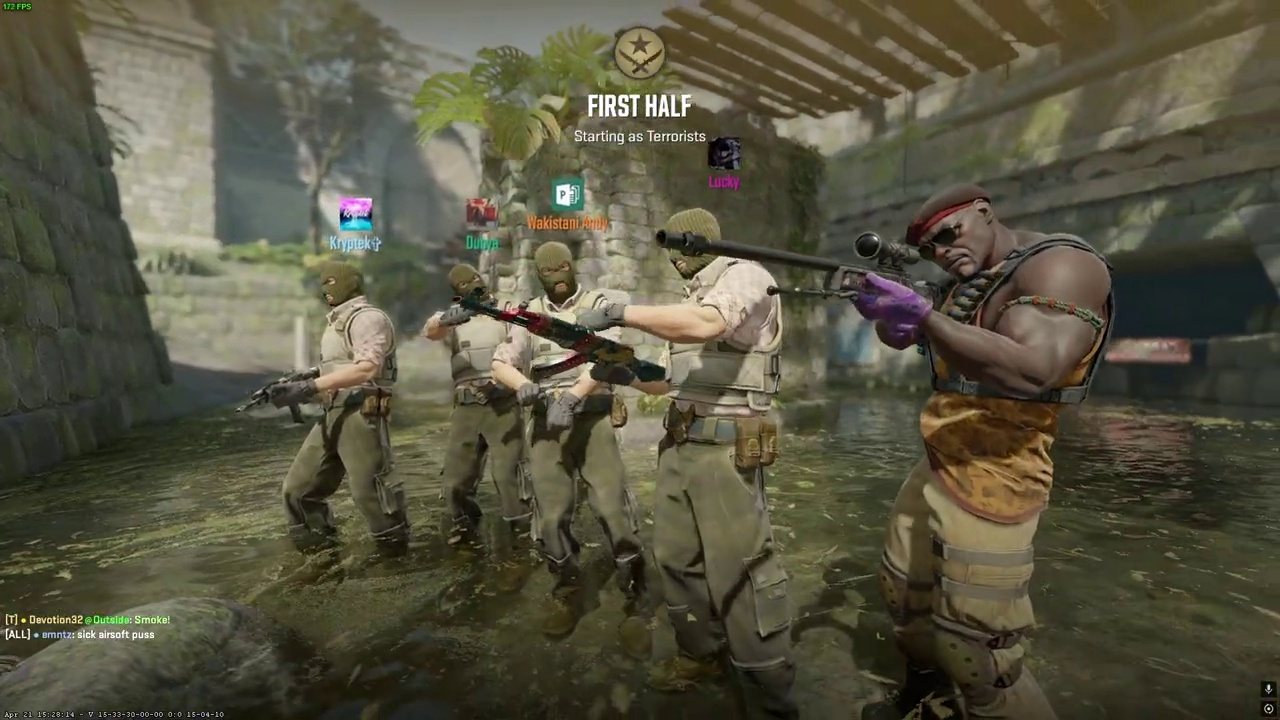Terrorist: (849, 184, 1116, 720), (626, 208, 794, 720), (506, 241, 645, 645), (270, 262, 411, 577), (423, 263, 534, 548)
